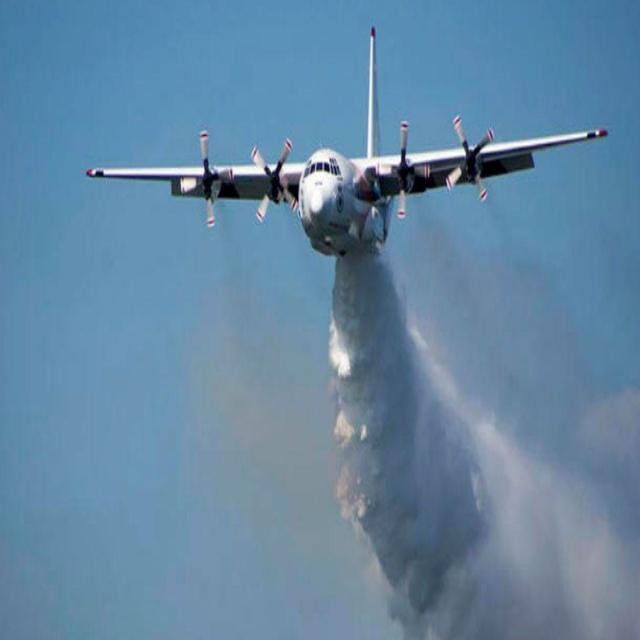MIL_Plane: (85, 42, 608, 241)
